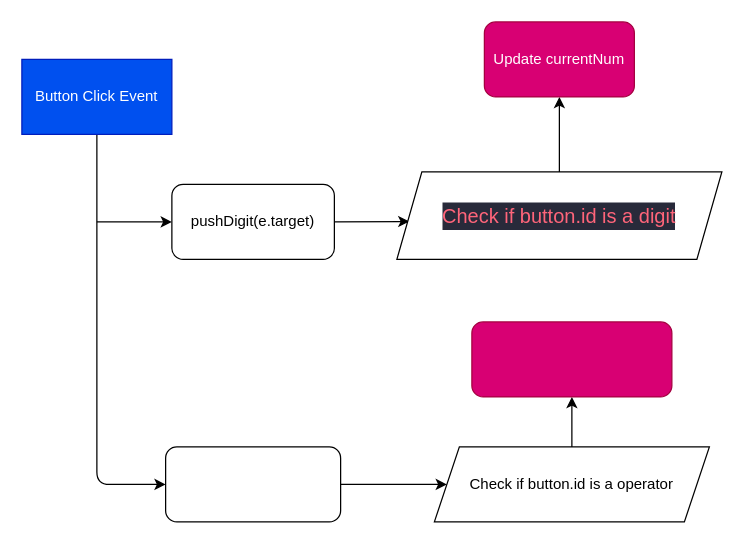
Some shapes in this 744 by 544 pixel diagram are drawn without their labels. Each missing label, with the box of its shape:
operateNum(e.target): (164, 446, 341, 522)
Update currentOperation: (471, 321, 672, 397)
